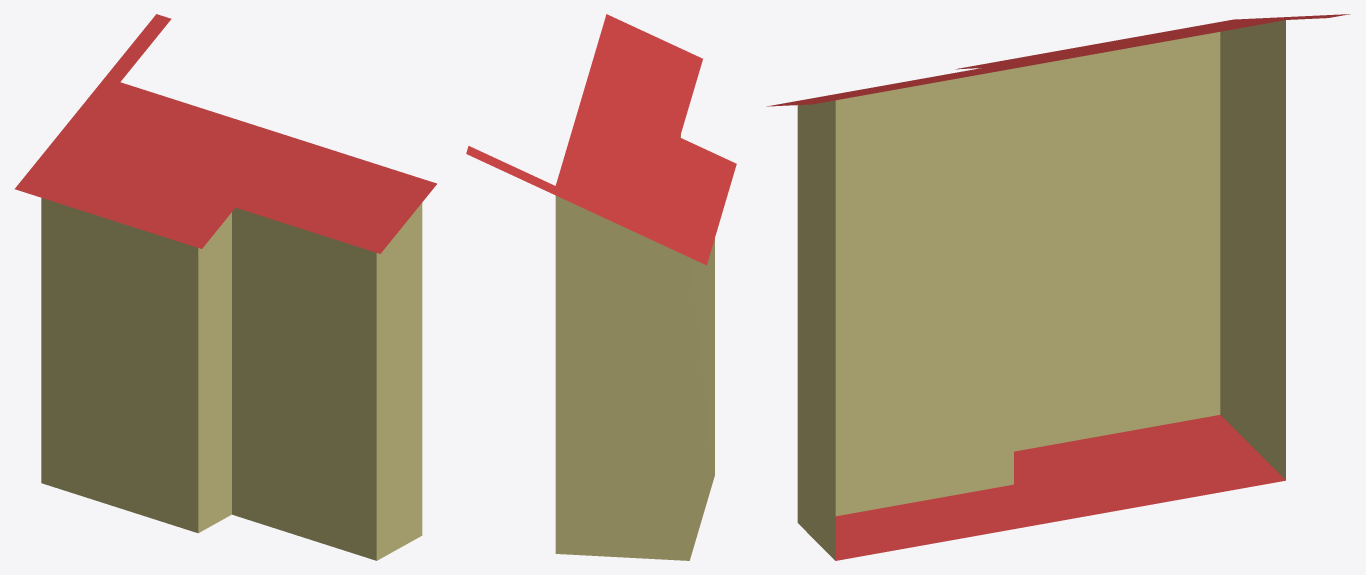
The picture shows the model from 3 angles, left to right: view 1: azimuth 30°, elevation 25°; view 2: azimuth 150°, elevation 25°; view 3: azimuth 270°, elevation 25°; orthographic projection. The views are drawn at different scales.
Size of the model in its own units: 7.85 by 11.87 by 11.29.
